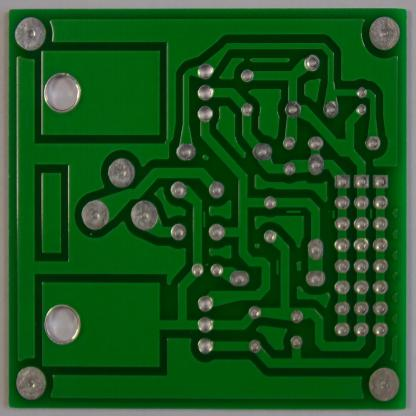spurious_copper: (283, 205, 303, 217), (273, 256, 281, 279), (365, 206, 376, 221), (199, 210, 208, 228), (328, 207, 338, 221)
